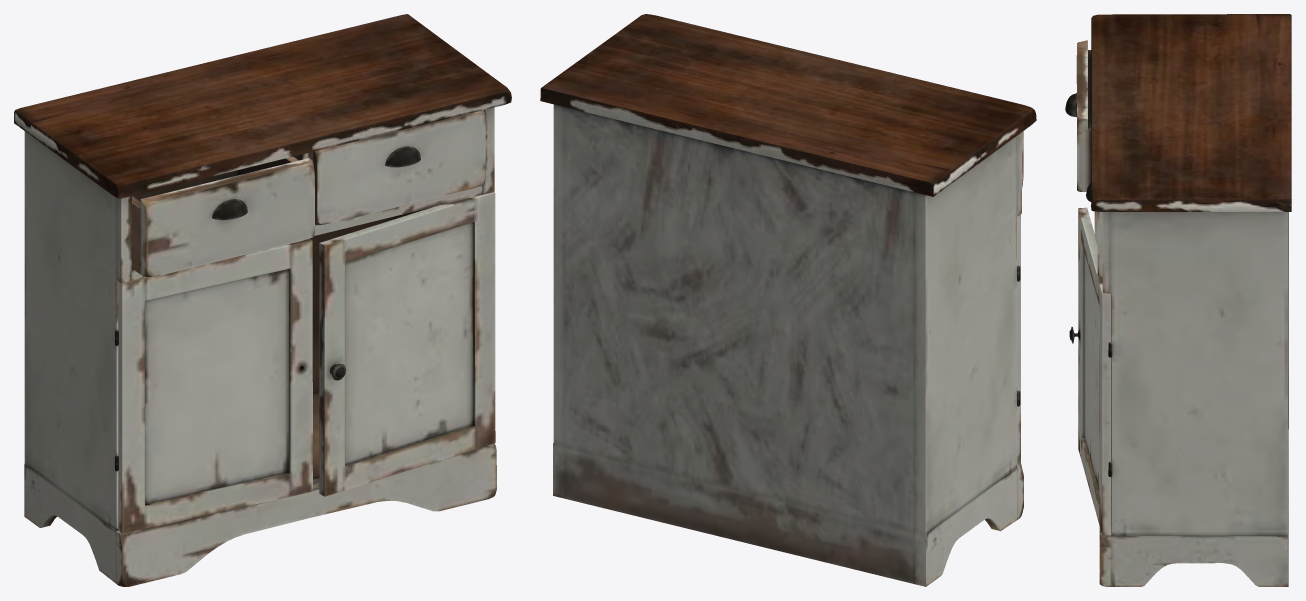
The model's file is painted_wooden_cabinet.glb.
3 views of the same model, side by side, from view 1: azimuth 30°, elevation 25°; view 2: azimuth 150°, elevation 25°; view 3: azimuth 270°, elevation 25° (orthographic). The views are drawn at different scales.
Visible parts, largest first — view 1: painted_wooden_cabinet; view 2: painted_wooden_cabinet; view 3: painted_wooden_cabinet.
Part boxes in pixels (x1,y1,x2,y2): painted_wooden_cabinet: (14, 14, 511, 586); painted_wooden_cabinet: (540, 14, 1036, 586); painted_wooden_cabinet: (1065, 14, 1291, 586).
Size of the model in its own units: 1.19 by 1.18 by 0.6167.
1 material, 1 textured.
